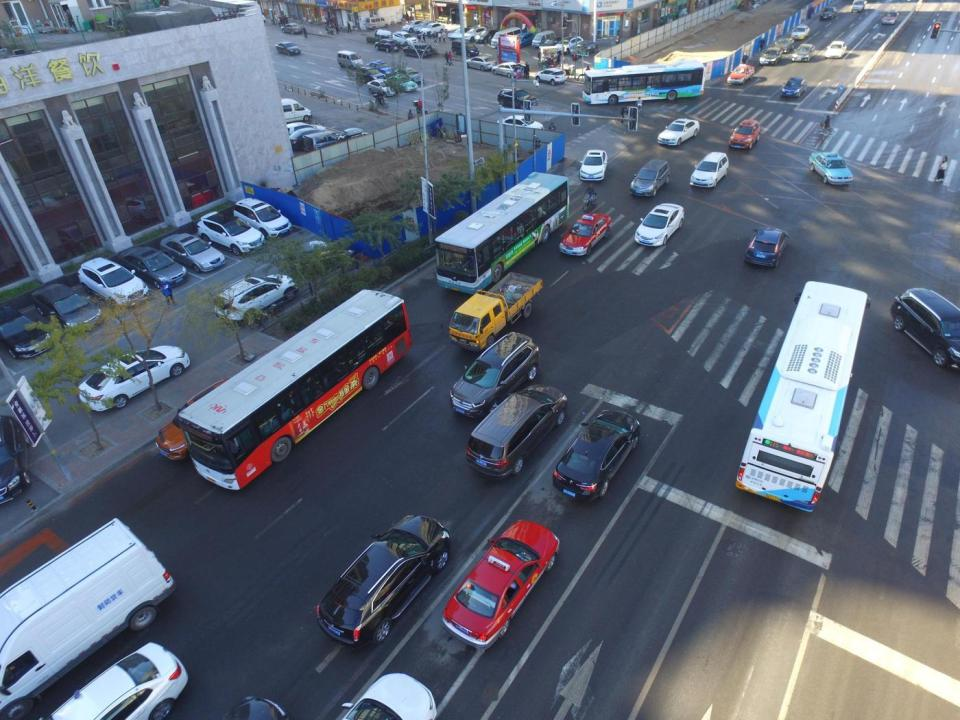bus: (176, 281, 418, 492), (735, 279, 870, 510), (434, 172, 570, 294), (581, 60, 709, 110)
car: (314, 509, 451, 651), (437, 519, 568, 649), (47, 642, 193, 720), (466, 378, 564, 474), (154, 376, 259, 464), (556, 404, 645, 505), (78, 343, 191, 415), (450, 334, 544, 416), (890, 284, 960, 369), (212, 272, 300, 323), (73, 255, 150, 305), (33, 281, 108, 331), (117, 242, 190, 289), (158, 231, 234, 272), (280, 241, 360, 279), (228, 195, 294, 241), (0, 304, 58, 356), (198, 214, 270, 255), (634, 199, 687, 249), (560, 212, 614, 260), (741, 223, 791, 271), (684, 153, 732, 188), (808, 150, 853, 187), (656, 114, 701, 146), (726, 116, 763, 152), (497, 115, 545, 139), (285, 127, 329, 153), (496, 87, 539, 112), (580, 146, 608, 182), (303, 132, 345, 153), (338, 129, 378, 151), (281, 121, 327, 140), (366, 78, 399, 98), (395, 66, 428, 86), (535, 68, 568, 87), (555, 35, 586, 54), (727, 63, 754, 84), (491, 62, 526, 78), (792, 41, 815, 65), (780, 77, 807, 97), (368, 60, 398, 78), (390, 74, 418, 93), (465, 55, 498, 71), (356, 65, 386, 82), (759, 46, 783, 66), (404, 43, 433, 59), (571, 40, 598, 57), (463, 26, 490, 43), (274, 41, 304, 56), (392, 31, 420, 47), (824, 40, 846, 60), (540, 35, 565, 52), (879, 8, 899, 28), (420, 23, 447, 37), (514, 31, 536, 48), (414, 20, 440, 34), (374, 38, 400, 52), (790, 23, 810, 41), (775, 37, 793, 56), (242, 9, 267, 22), (819, 5, 838, 22), (401, 20, 429, 31), (374, 27, 397, 40), (280, 23, 304, 35), (449, 28, 475, 39), (852, 0, 865, 13)
truck: (449, 272, 548, 352)
van: (0, 517, 178, 720), (629, 157, 671, 200), (256, 97, 312, 122), (491, 26, 523, 48), (335, 50, 364, 70), (451, 38, 480, 57), (531, 30, 559, 48), (475, 28, 501, 45), (365, 16, 389, 29)
